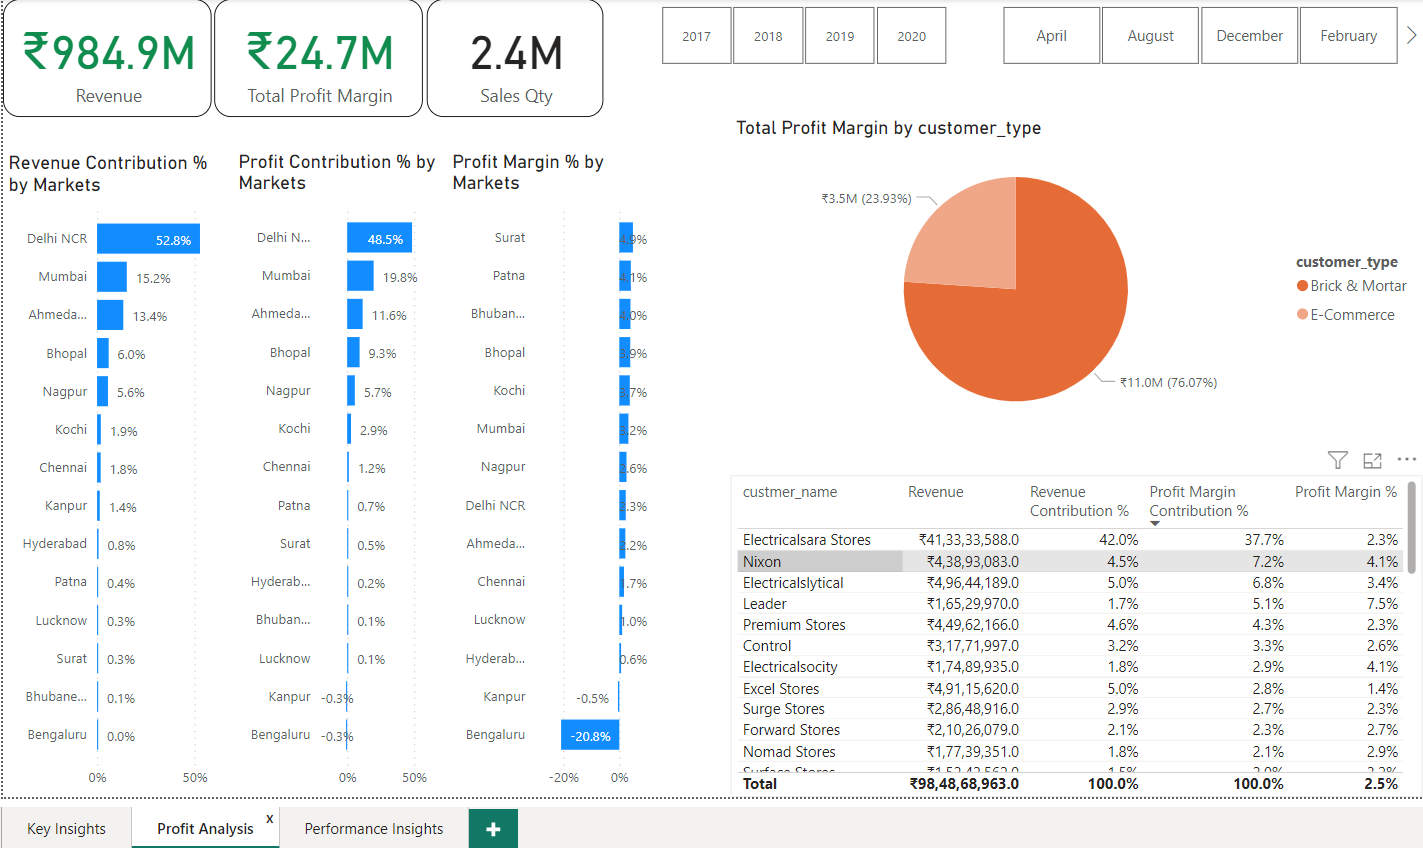

Layout of this report page (visuals, bound fields, positions):
{"tool":"powerbi","page":{"name":"Profit Analysis","canvas":[1280,720],"ordinal":1},"visuals":[{"type":"card","fields":{"Values":["Base Measures.Revenue"]},"box":[0,0,188.2,106.6],"z":0},{"type":"card","fields":{"Values":["Base Measures.Sales Qty"]},"box":[381.6,0,159.2,106.6],"z":1000},{"type":"barChart","title":"Profit Margin % by Markets","fields":{"Category":["sales markets.markets_name"],"Y":["Base Measures.Profit Margin %"]},"box":[400,136.2,195,583.8],"z":2000},{"type":"barChart","title":"Profit Contribution % by Markets","fields":{"Category":["sales markets.markets_name"],"Y":["Base Measures.Profit Margin Contribution %"]},"box":[207.5,136.2,192.5,583.8],"z":3000},{"type":"slicer","fields":{"Values":["sales date.year"]},"box":[568.4,0,306.6,65.8],"z":4000},{"type":"slicer","fields":{"Values":["sales date.month_name"]},"box":[875,0,405.3,65.8],"z":5000},{"type":"tableEx","title":"Top 5 Products by Revenue","fields":{"Values":["sales customers.custmer_name","Base Measures.Revenue","Base Measures.Revenue Contribution %","Base Measures.Profit Margin Contribution %","Base Measures.Profit Margin %"]},"box":[656.2,428.8,623.8,291.2],"z":6000},{"type":"card","fields":{"Values":["Base Measures.Total Profit Margin"]},"box":[190.8,0,188.2,106.6],"z":7000},{"type":"barChart","title":"Revenue Contribution % by Markets","fields":{"Category":["sales markets.markets_name"],"Y":["Base Measures.Revenue Contribution %"]},"box":[0,137.5,207.5,582.5],"z":8000},{"type":"pieChart","fields":{"Category":["sales customers.customer_type"],"Y":["Base Measures.Total Profit Margin"]},"box":[656.2,106.2,623.8,292.5],"z":9000}]}

Visuals, with their boxes on the page's 1280x720 design canvas (x1, y1, x2, y2). These are canvas units, not pixel positions in the 1423x848 screenshot, which may show the page scaled, cropped or inside an application window:
card - Base Measures.Revenue: bbox(0, 0, 188, 107)
card - Base Measures.Sales Qty: bbox(382, 0, 541, 107)
"Profit Margin % by Markets" barChart: bbox(400, 136, 595, 720)
"Profit Contribution % by Markets" barChart: bbox(208, 136, 400, 720)
slicer - sales date.year: bbox(568, 0, 875, 66)
slicer - sales date.month_name: bbox(875, 0, 1280, 66)
"Top 5 Products by Revenue" tableEx: bbox(656, 429, 1280, 720)
card - Base Measures.Total Profit Margin: bbox(191, 0, 379, 107)
"Revenue Contribution % by Markets" barChart: bbox(0, 138, 208, 720)
pieChart - sales customers.customer_type x Base Measures.Total Profit Margin: bbox(656, 106, 1280, 399)
